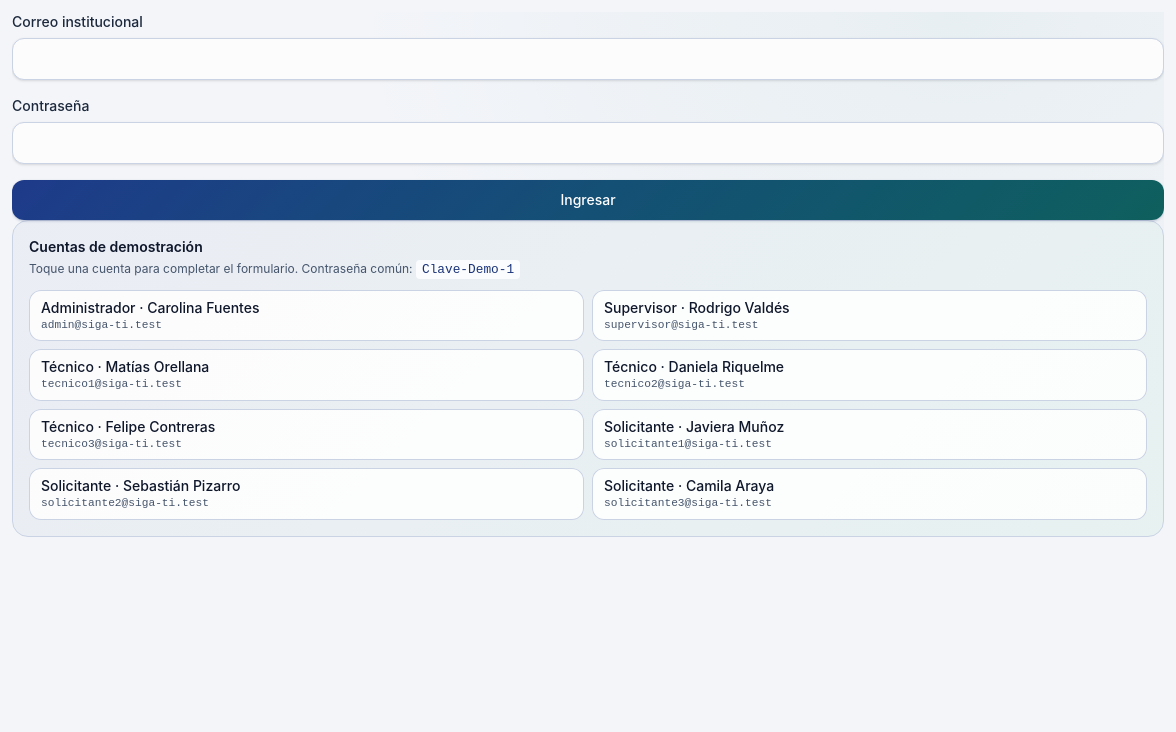
Test: cuentas de demostración › al tocar una cuenta rellena correo y contraseña sin enviar el formulario
The image size is (1176, 732).
Click the button "Técnico · Daniela Riquelme tecnico2@siga-ti.test": click(630, 367) x1=592 y1=349 x2=1147 y2=401
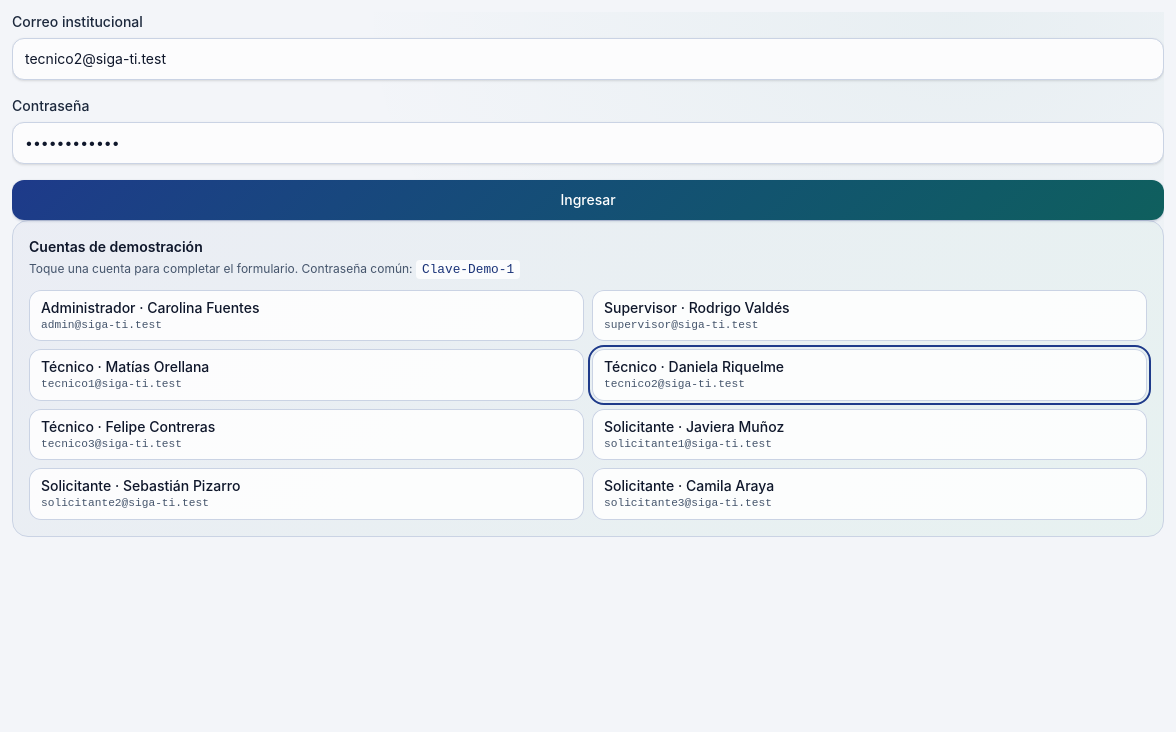
Now the field labelled "Correo institucional" holds "tecnico2@siga-ti.test", box x1=12 y1=38 x2=1164 y2=80
Now the password field labelled "Contraseña" holds "Clave-Demo-1", box x1=12 y1=122 x2=1164 y2=164
